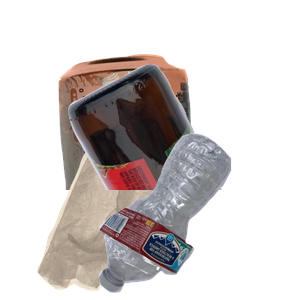glass: (66, 61, 300, 241)
metal: (56, 52, 242, 232)
plastic: (96, 131, 300, 300)
trash: (35, 140, 203, 300)
